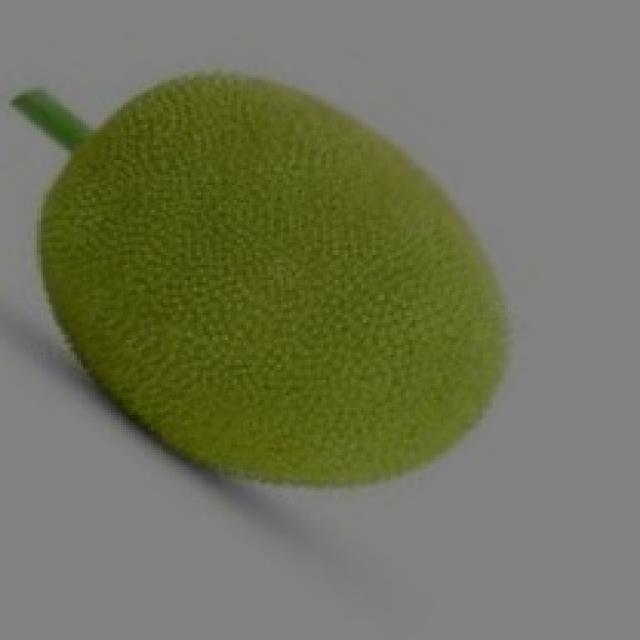Fruit: (172, 45, 545, 497)
